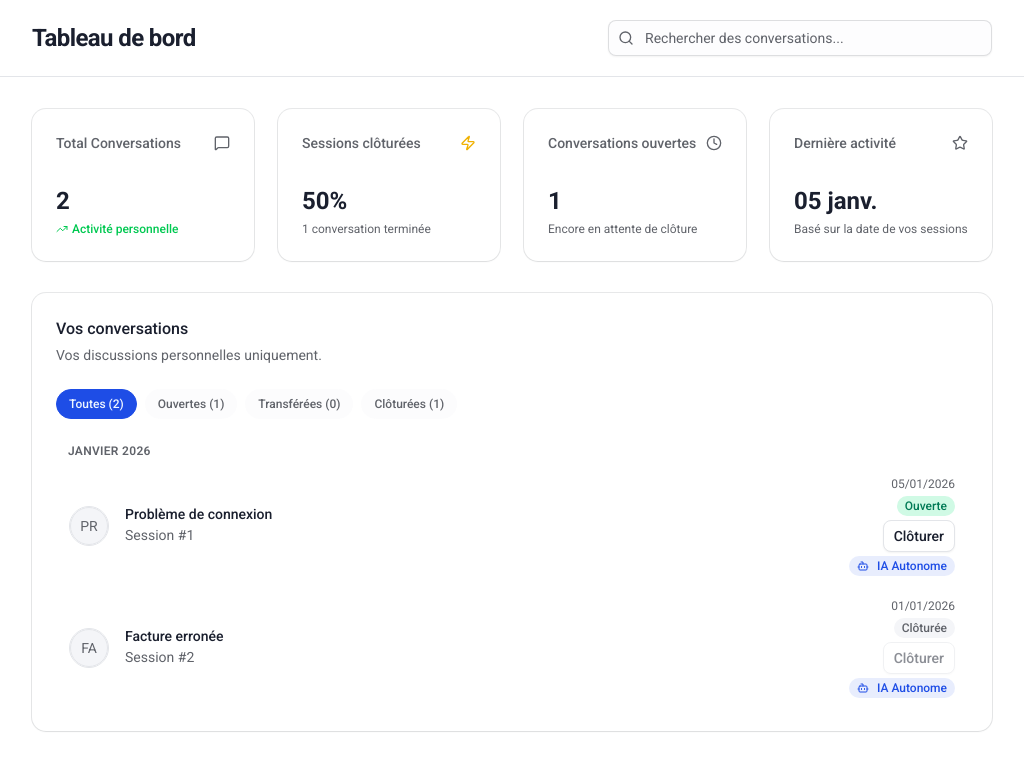
Test: UserDashboard › shows a filter-specific empty state when no conversation matches the active status
The width and height of the screenshot is (1024, 768).
Expected: the text "Problème de connexion" is shown, [125, 507, 272, 521]
Click the button "Transférées (0)".
click(299, 404)  # box [245, 389, 353, 419]
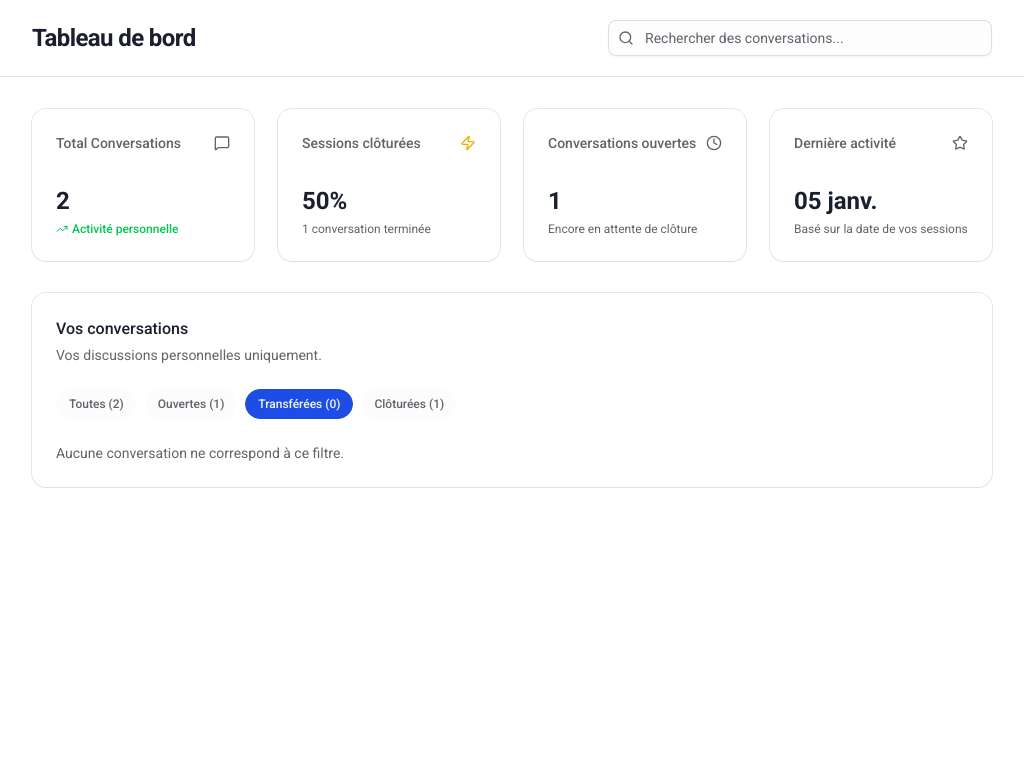
Result: the text "Aucune conversation ne correspond à ce filtre." is shown at [56, 445, 344, 461]
